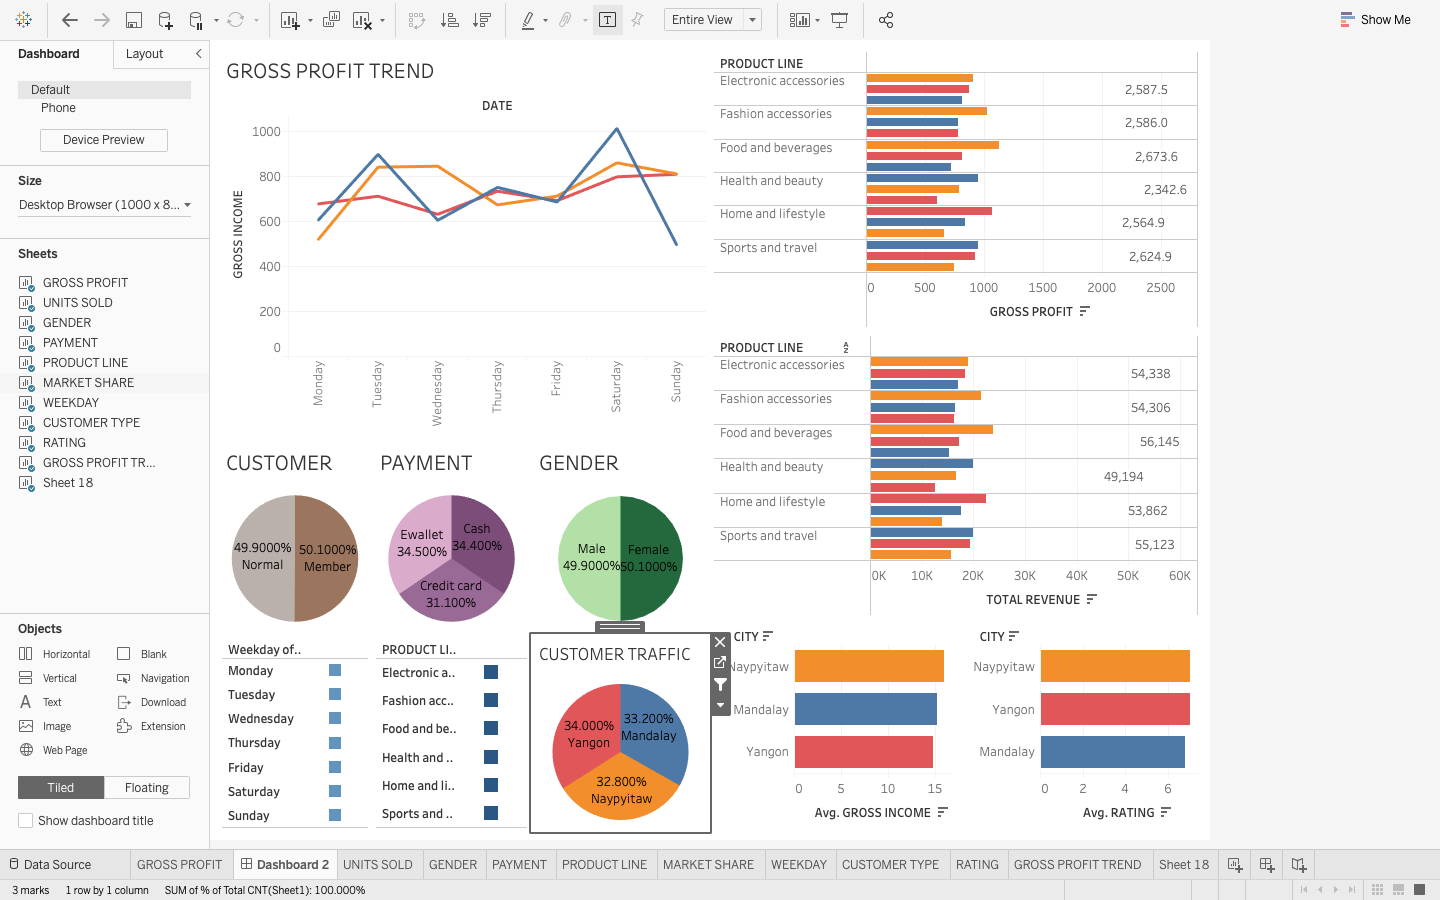

The dashboard page shown, as its layout file describes it:
{"tool":"tableau","page":{"name":"Dashboard 2","canvas":[1000,800],"ordinal":0},"visuals":[{"type":"worksheet","box":[0,0,1000,800]},{"type":"worksheet","param":"horz","box":[8,8,984,784]},{"type":"worksheet","box":[8,8,984,784]},{"type":"worksheet","title":"GROSS PROFIT TREND","mark":"Automatic","rows":["F16"],"cols":["F11"],"box":[8,8,492,392]},{"type":"worksheet","param":"horz","box":[500,8,492,784]},{"type":"worksheet","box":[500,8,492,784]},{"type":"worksheet","title":"GROSS PROFIT","mark":"Automatic","rows":["F6","F3"],"cols":["F16"],"box":[500,8,492,284]},{"type":"worksheet","title":"UNITS SOLD","mark":"Automatic","rows":["F6","F3"],"cols":["F10"],"box":[500,292,492,289]},{"type":"worksheet","title":"CUSTOMER TYPE","mark":"Pie","box":[8,400,154,194]},{"type":"worksheet","title":"PAYMENT","mark":"Pie","box":[162,400,159.1,194]},{"type":"worksheet","title":"GENDER","mark":"Pie","box":[321,400,179,194]},{"type":"worksheet","title":"Sheet 18","mark":"Automatic","rows":["F3"],"cols":["F16"],"box":[500,581,246,211]},{"type":"worksheet","title":"RATING","mark":"Automatic","rows":["F3"],"cols":["F17"],"box":[746,581,246,211]},{"type":"worksheet","title":"WEEKDAY","mark":"Automatic","rows":["F11"],"box":[8,594,154,198]},{"type":"worksheet","title":"PRODUCT LINE","mark":"Automatic","rows":["F6"],"box":[162,594,159.1,198]},{"type":"worksheet","title":"MARKET SHARE","mark":"Pie","box":[321,594,179,198]}]}

Visuals, with their boxes on the page's 1000x800 design canvas (x1, y1, x2, y2). These are canvas units, not pixel positions in the 1440x900 screenshot, which may show the page scaled, cropped or inside an application window:
worksheet: {"left": 0, "top": 0, "right": 1000, "bottom": 800}
worksheet: {"left": 8, "top": 8, "right": 992, "bottom": 792}
worksheet: {"left": 8, "top": 8, "right": 992, "bottom": 792}
"GROSS PROFIT TREND" worksheet: {"left": 8, "top": 8, "right": 500, "bottom": 400}
worksheet: {"left": 500, "top": 8, "right": 992, "bottom": 792}
worksheet: {"left": 500, "top": 8, "right": 992, "bottom": 792}
"GROSS PROFIT" worksheet: {"left": 500, "top": 8, "right": 992, "bottom": 292}
"UNITS SOLD" worksheet: {"left": 500, "top": 292, "right": 992, "bottom": 581}
"CUSTOMER TYPE" worksheet (Pie marks): {"left": 8, "top": 400, "right": 162, "bottom": 594}
"PAYMENT" worksheet (Pie marks): {"left": 162, "top": 400, "right": 321, "bottom": 594}
"GENDER" worksheet (Pie marks): {"left": 321, "top": 400, "right": 500, "bottom": 594}
"Sheet 18" worksheet: {"left": 500, "top": 581, "right": 746, "bottom": 792}
"RATING" worksheet: {"left": 746, "top": 581, "right": 992, "bottom": 792}
"WEEKDAY" worksheet: {"left": 8, "top": 594, "right": 162, "bottom": 792}
"PRODUCT LINE" worksheet: {"left": 162, "top": 594, "right": 321, "bottom": 792}
"MARKET SHARE" worksheet (Pie marks): {"left": 321, "top": 594, "right": 500, "bottom": 792}
